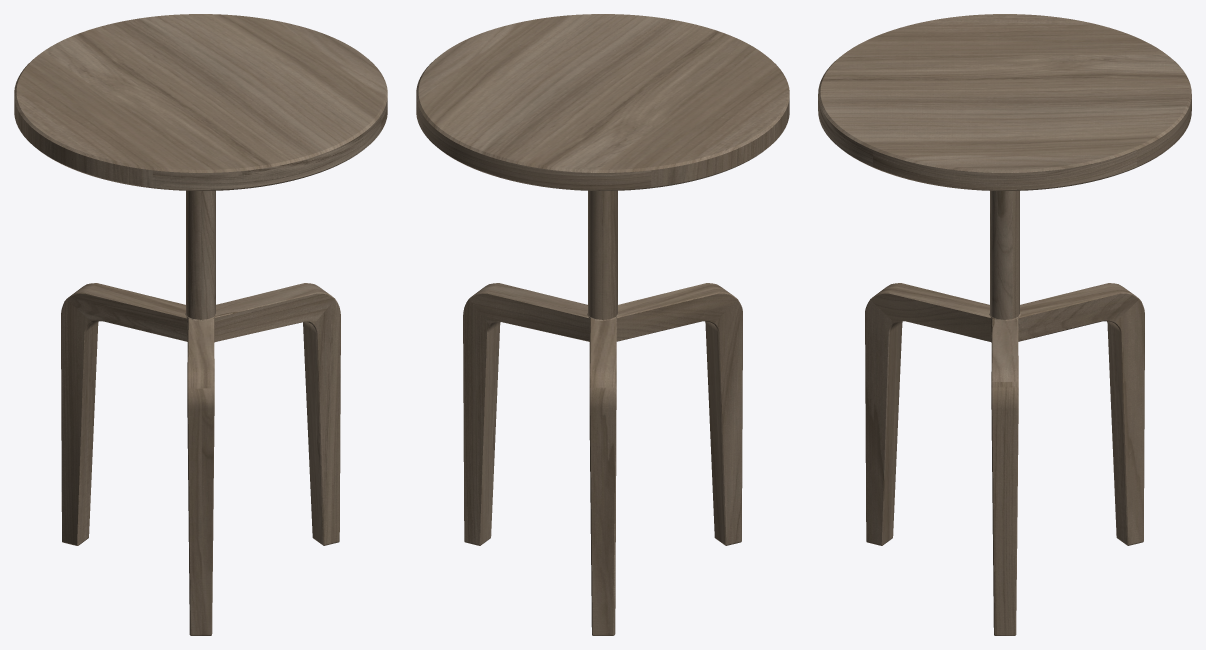
The model's file is vic55.gltf.
3 views of the same model, side by side, from view 1: azimuth 30°, elevation 25°; view 2: azimuth 150°, elevation 25°; view 3: azimuth 270°, elevation 25° (orthographic).
Visible parts, largest first — view 1: vic; view 2: vic; view 3: vic.
Boxes of the visible parts, bbox=[...] form: vic: bbox=[14, 14, 387, 635]; vic: bbox=[416, 14, 789, 635]; vic: bbox=[818, 14, 1191, 635].
Bounding box in the file's own units: 0.4 × 0.5659 × 0.4.
1 material, 1 textured.
